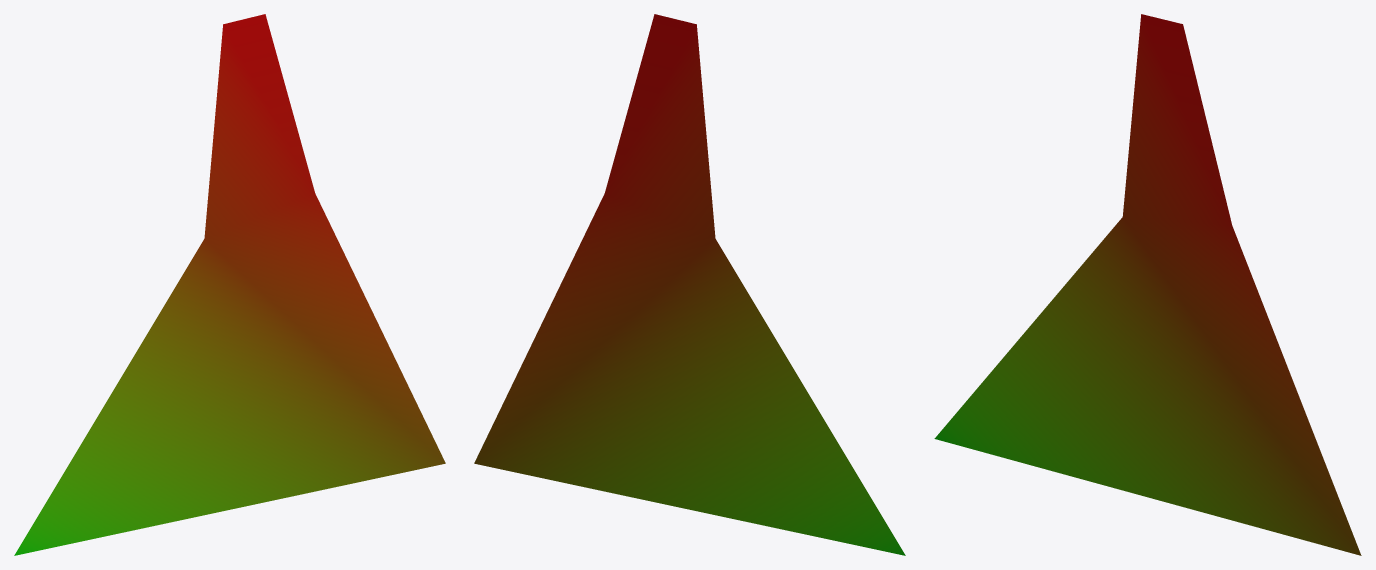
File: Sowthistle_LOD4_Var5_tgdqciyr.fbx
3 views of the same model, side by side, from view 1: azimuth 30°, elevation 25°; view 2: azimuth 150°, elevation 25°; view 3: azimuth 330°, elevation 25° (orthographic).
Visible parts, largest first — view 1: _9641_Var5_LOD4; view 2: _9641_Var5_LOD4; view 3: _9641_Var5_LOD4.
Part boxes in pixels (<box>): _9641_Var5_LOD4: <box>14,14,445,555</box>; _9641_Var5_LOD4: <box>474,14,905,555</box>; _9641_Var5_LOD4: <box>934,14,1361,555</box>.
Bounding box in the file's own units: 60.61 × 66.2 × 0.000149.
